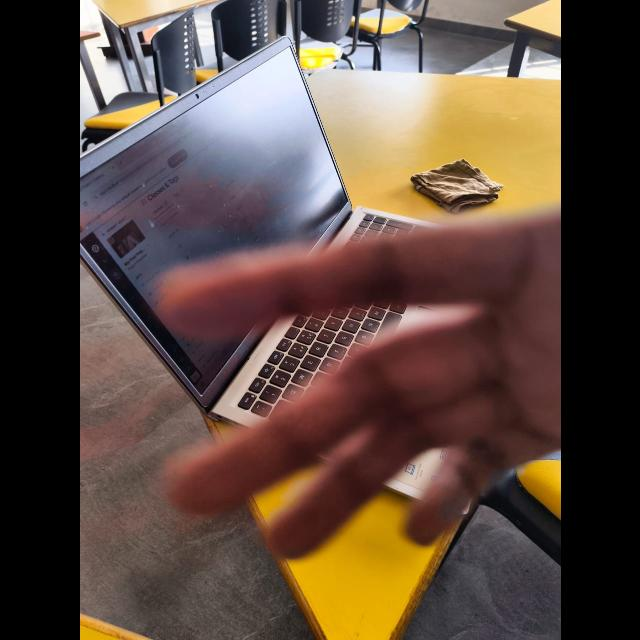laptop: (79, 25, 369, 246)
